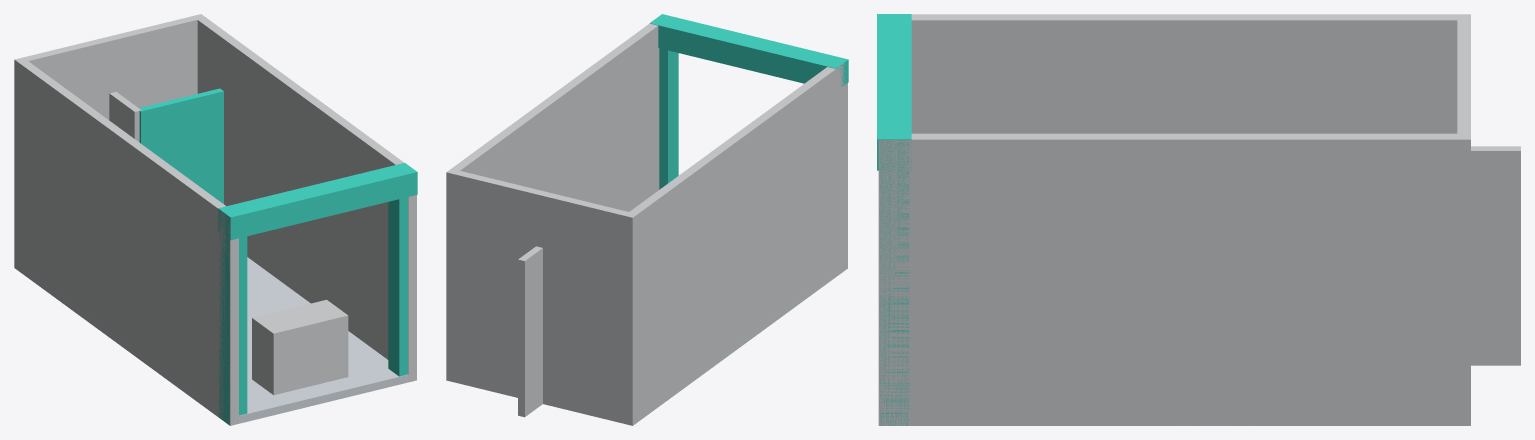
3 views of the same model, side by side, from view 1: azimuth 30°, elevation 25°; view 2: azimuth 150°, elevation 25°; view 3: azimuth 270°, elevation 25° (orthographic). The views are drawn at different scales.
Parts seen in each view (by area): view 1: Exhibition Booth Concept; view 2: Exhibition Booth Concept; view 3: Exhibition Booth Concept.
Boxes of the visible parts, x1,y1,x2,y2 form: Exhibition Booth Concept: [14, 14, 417, 425]; Exhibition Booth Concept: [446, 14, 848, 425]; Exhibition Booth Concept: [877, 14, 1520, 425].
Bounding box in the file's own units: 3 × 3.2 × 6.52.
